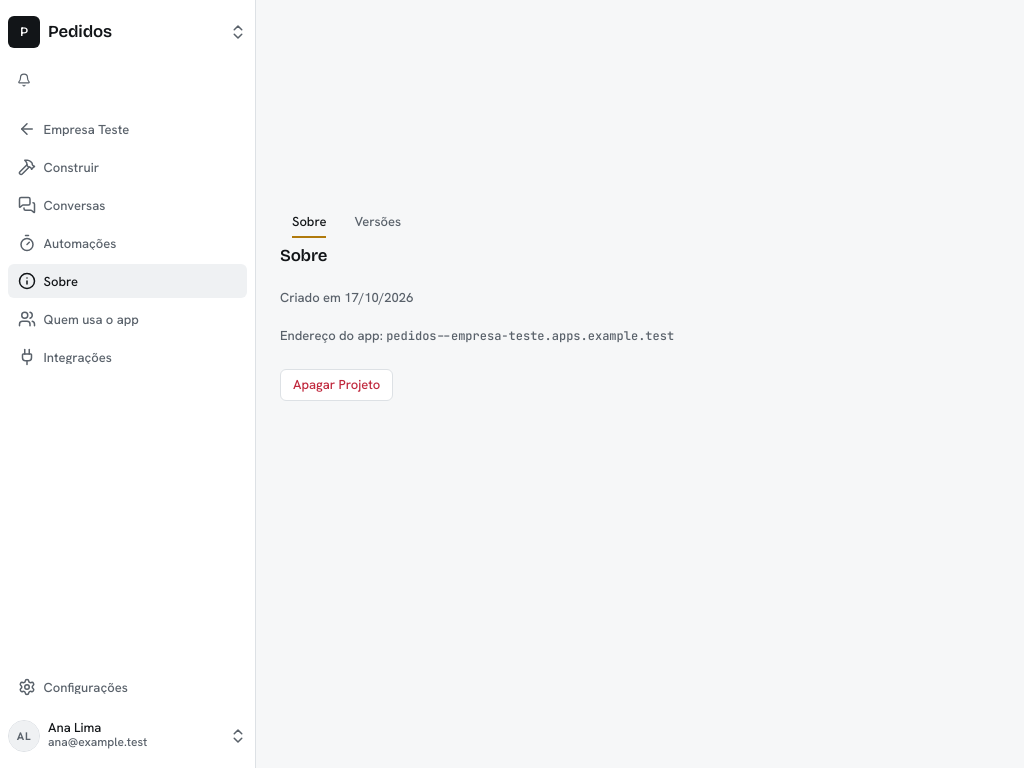
vazio: "Apagar Pedidos?", "Isto não se desfaz.", o campo com o foco e Apagar Projeto desligado
(page scrolled)
Click the button "Apagar Projeto": x=337, y=385 [280,369,393,401]
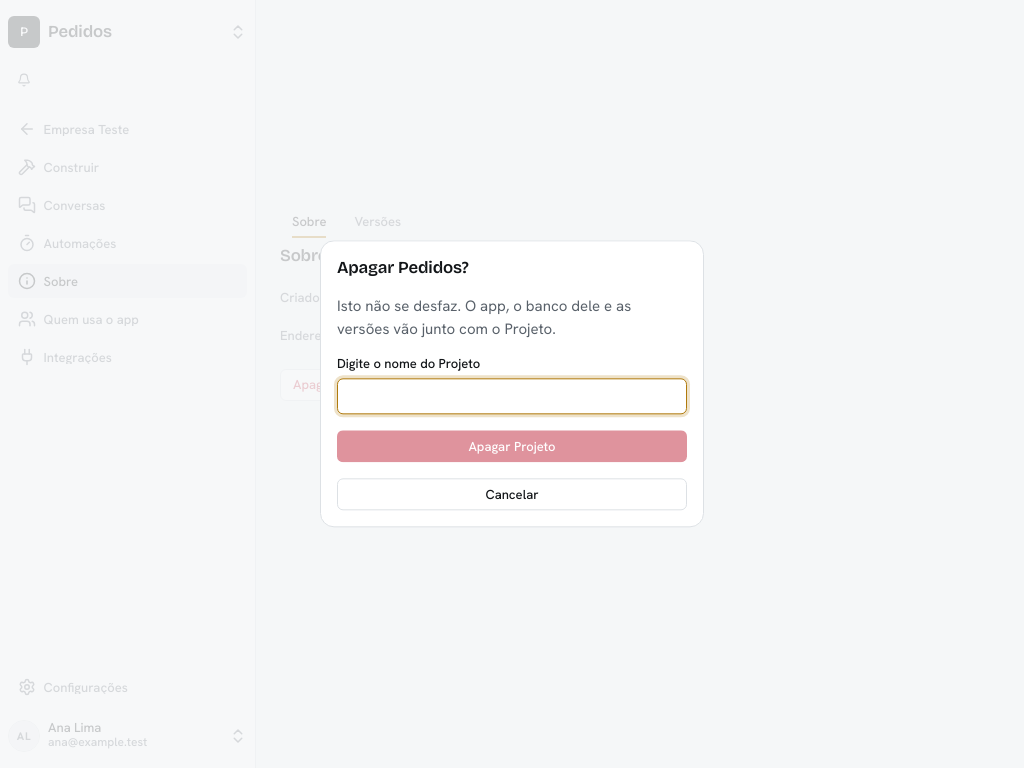
Result: the dialog is shown at [320,240,704,528]
Result: the heading "Apagar Pedidos?" is shown at [337,257,468,278]
Result: the dialog shows "Isto não se desfaz." at [337,296,631,340]
Click the button "Cancelar": x=512, y=495 [337,479,687,511]
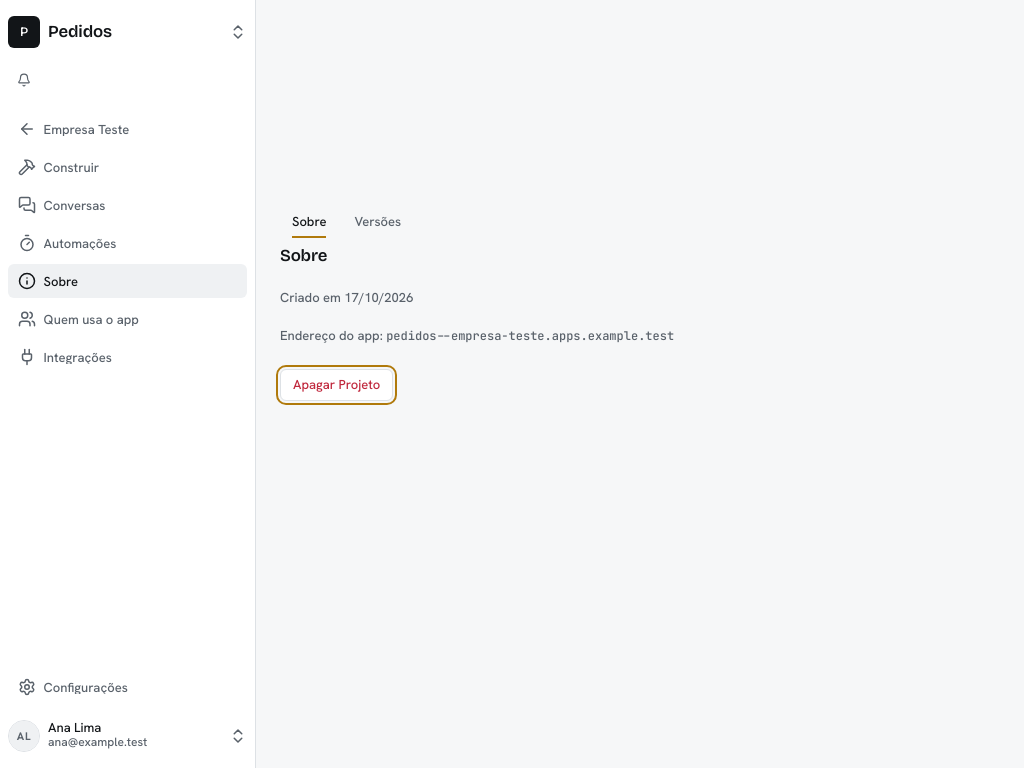
Result: the dialog is gone
